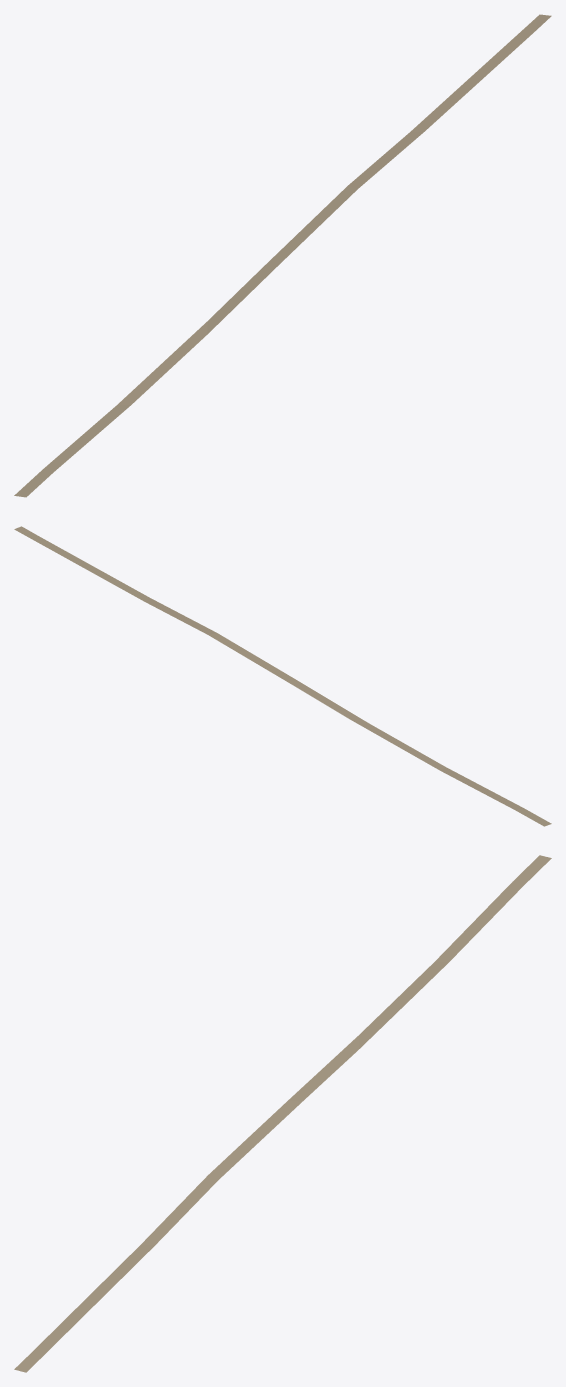
The model's file is farm_19_20_track.glb.
3 renders of one model, top to bottom at view 1: azimuth 90°, elevation 25°; view 2: azimuth 150°, elevation 25°; view 3: azimuth 270°, elevation 25°, orthographic. The views are drawn at different scales.
Visible parts, largest first — view 1: geometry_0; view 2: geometry_0; view 3: geometry_0.
Boxes of the visible parts, left/top/right/bottom form: geometry_0: left=14, top=14, right=551, bottom=497; geometry_0: left=14, top=526, right=551, bottom=826; geometry_0: left=14, top=855, right=551, bottom=1372.
Size of the model in its own units: 288 by 4.63 by 131.
